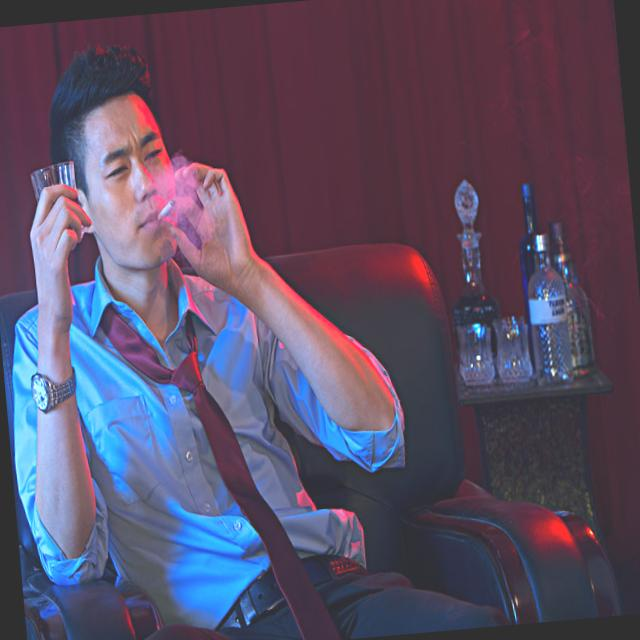smoke: (155, 198, 177, 222)
